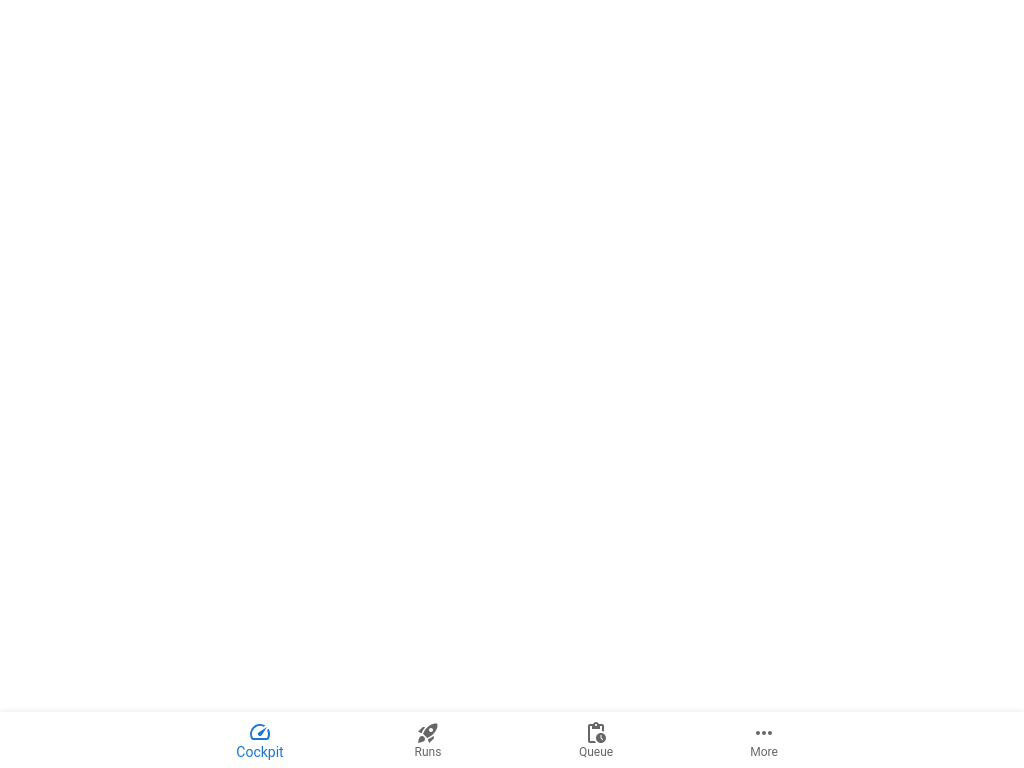
Test: BottomNav › The More sheet › hides the destinations the user lacks permission for
Click the button with aria-label "More destinations". click: (764, 740)
box: [680, 712, 848, 767]
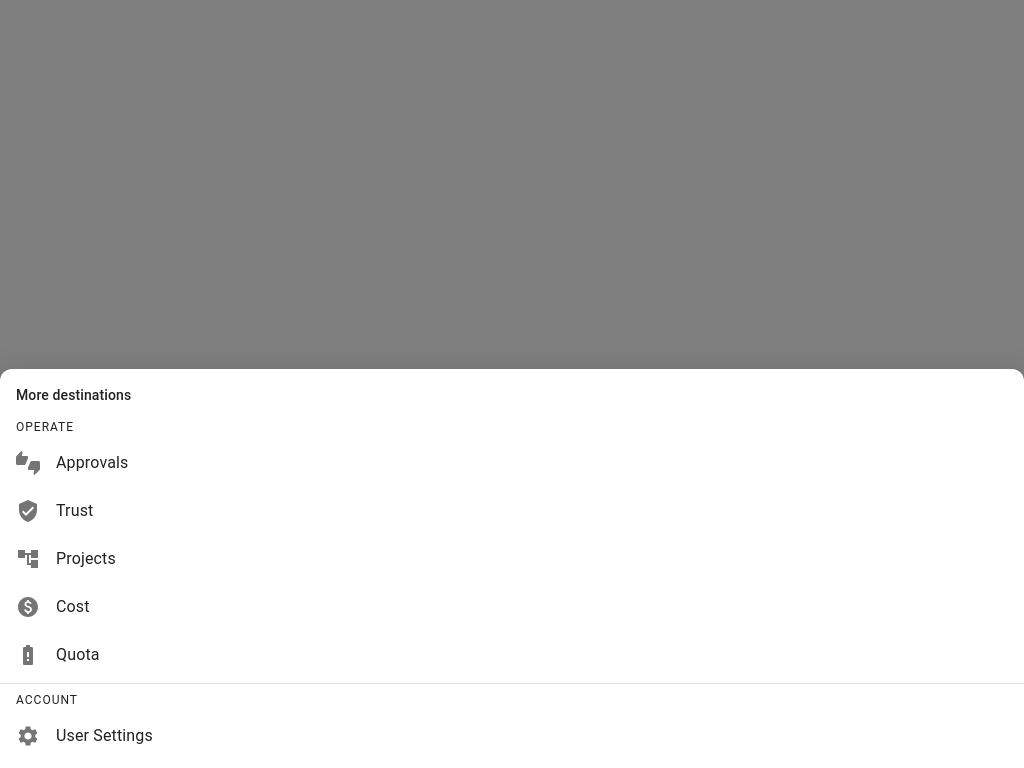
Result: the link "User Settings" is shown at [16, 724, 153, 748]
